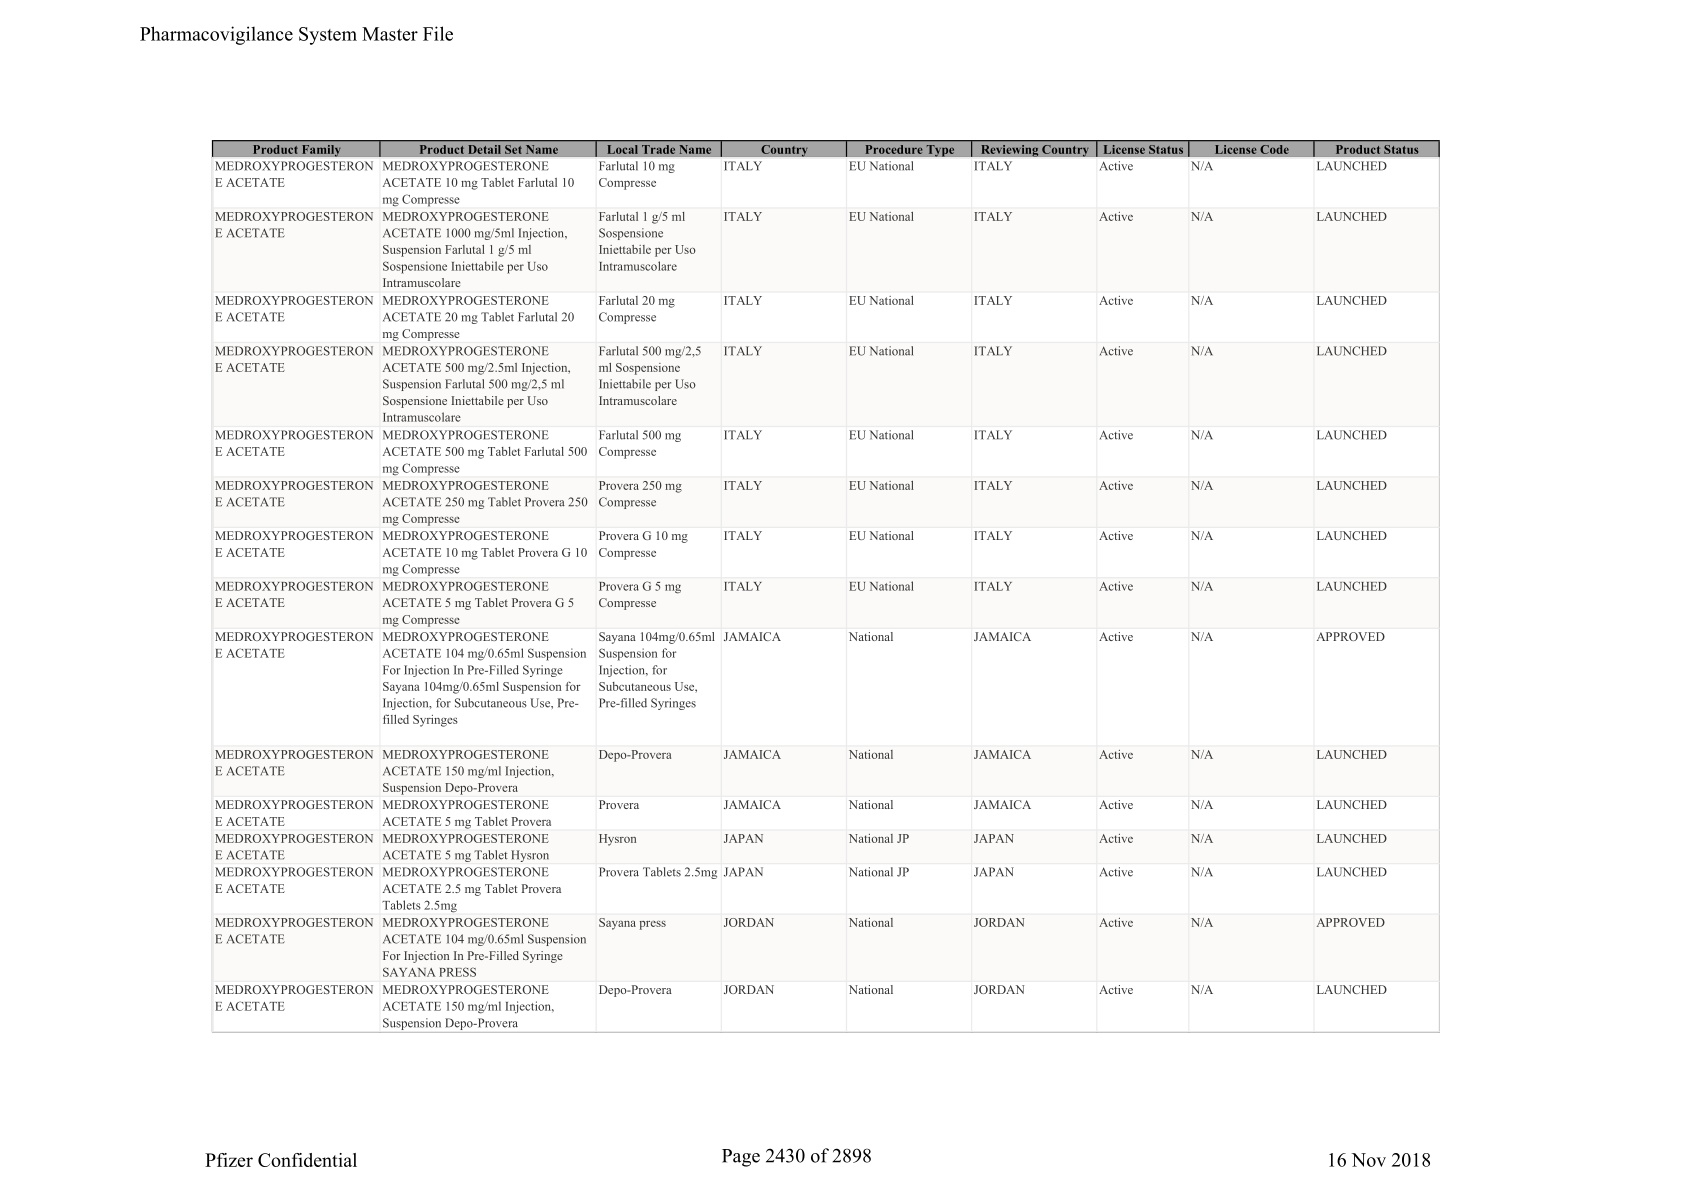full_lined: (211, 138, 1441, 1034)
